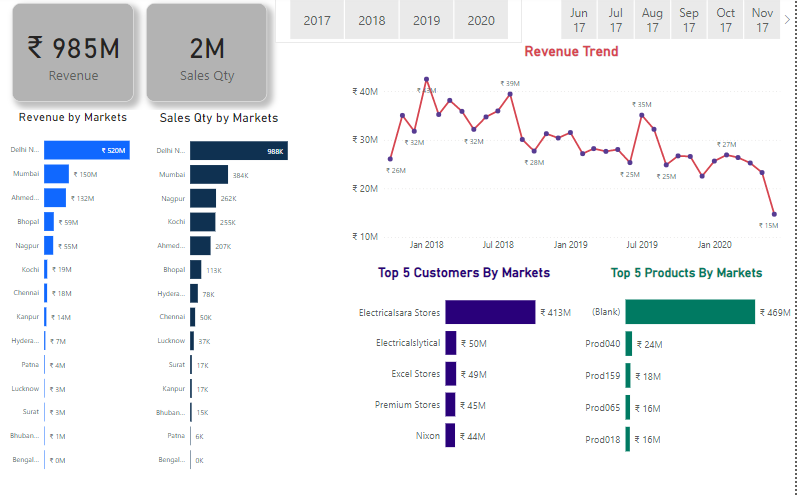

This screenshot's page, from the dashboard's own definition file:
{"tool":"powerbi","page":{"name":"Key Insights","canvas":[1350,850],"ordinal":0},"visuals":[{"type":"card","fields":{"Values":["BaseMeasures (2).Revenue"]},"box":[20.4,11.9,207.4,168.3],"z":0},{"type":"card","fields":{"Values":["BaseMeasures (2).Sales Qty"]},"box":[248.2,11.9,205.7,168.3],"z":1000},{"type":"barChart","title":"Revenue by Markets","fields":{"Y":["BaseMeasures (2).Revenue"],"Category":["sales markets.markets_name"]},"box":[0,193.1,247.9,631.9],"z":2000},{"type":"barChart","title":"Sales Qty by Markets","fields":{"Y":["BaseMeasures (2).Sales Qty"],"Category":["sales markets.markets_name"]},"box":[247.9,193.1,247.9,631.9],"z":3000},{"type":"slicer","fields":{"Values":["sales date.year"]},"box":[467.7,0,419.9,79.7],"z":4000},{"type":"slicer","fields":{"Values":["sales date.cy_date"]},"box":[928.2,0,421.6,79.9],"z":5000},{"type":"barChart","title":"Top 5 Customers By Markets","fields":{"Y":["BaseMeasures (2).Revenue"],"Category":["sales customers.custmer_name"]},"box":[593.3,457.3,391,336.6],"z":6000},{"type":"barChart","title":"Top 5 Products By Markets","fields":{"Y":["BaseMeasures (2).Revenue"],"Category":["sales products.product_code"]},"box":[984.3,457.3,365.5,345.1],"z":7000},{"type":"lineChart","title":"Revenue Trend","fields":{"Y":["BaseMeasures (2).Revenue"],"Category":["sales date.cy_date"]},"box":[593.3,79.9,756.5,363.8],"z":8000}]}

Visuals, with their boxes in screenshot pixels (x1, y1, x2, y2), scaled from the page's 1350x850 canvas onto the 798x495 screenshot:
card - BaseMeasures (2).Revenue: (12, 7, 135, 105)
card - BaseMeasures (2).Sales Qty: (147, 7, 268, 105)
"Revenue by Markets" barChart: (0, 112, 147, 480)
"Sales Qty by Markets" barChart: (147, 112, 293, 480)
slicer - sales date.year: (276, 0, 525, 46)
slicer - sales date.cy_date: (549, 0, 797, 47)
"Top 5 Customers By Markets" barChart: (351, 266, 582, 462)
"Top 5 Products By Markets" barChart: (582, 266, 797, 467)
"Revenue Trend" lineChart: (351, 47, 797, 258)
